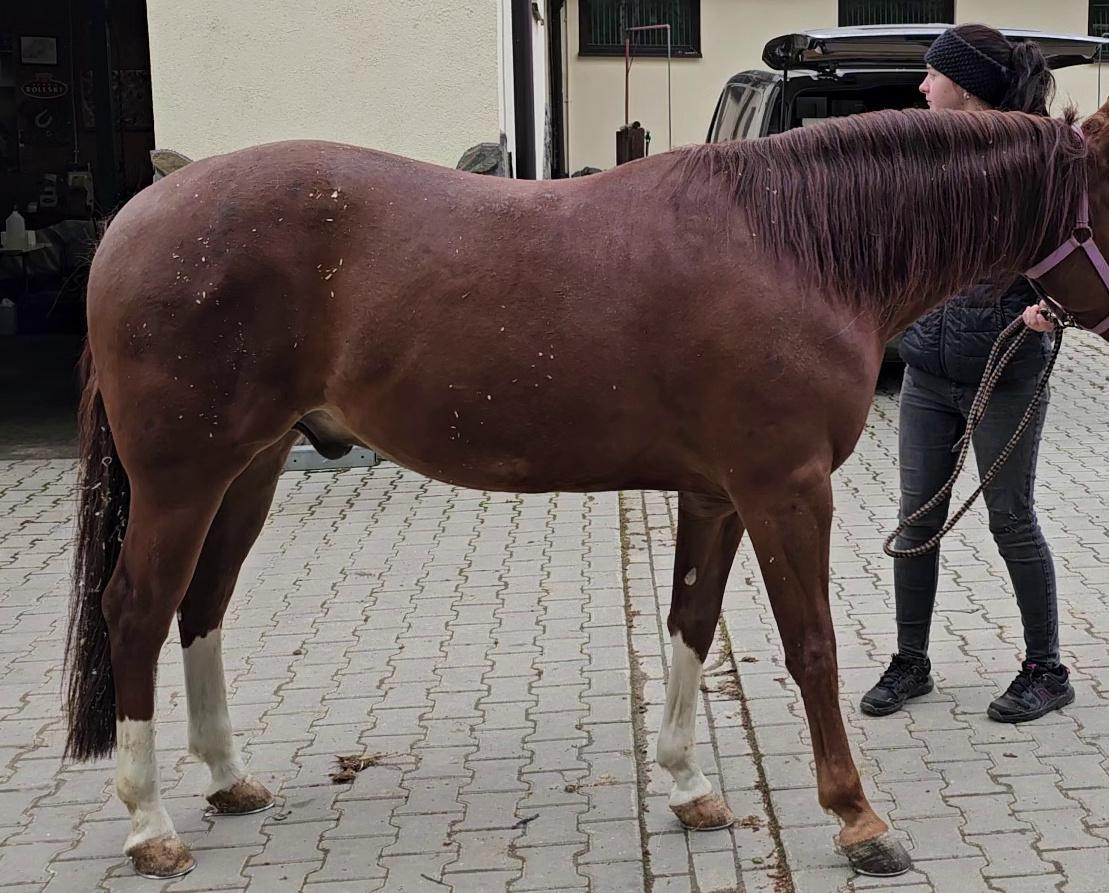horse: (59, 94, 1108, 882)
